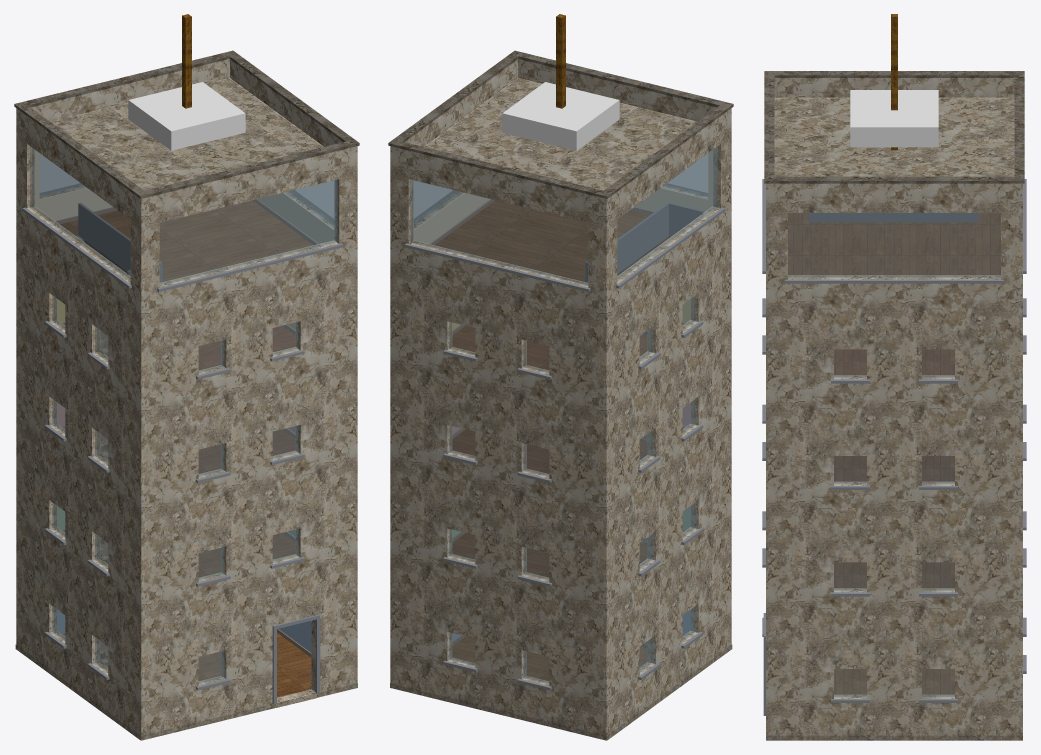
The model's file is control-tower.zfix-v14.lod0.glb.
3 views of the same model, side by side, from view 1: azimuth 30°, elevation 25°; view 2: azimuth 150°, elevation 25°; view 3: azimuth 270°, elevation 25° (orthographic). The views are drawn at different scales.
Visible parts, largest first — view 1: control-tower; view 2: control-tower; view 3: control-tower.
Part boxes in pixels (x1,y1,x2,y2): control-tower: [14, 14, 359, 740]; control-tower: [388, 14, 733, 740]; control-tower: [762, 14, 1026, 740].
Size of the model in its own units: 7.2 by 20.16 by 7.2.
Materials: 5 (3 with a texture image).
